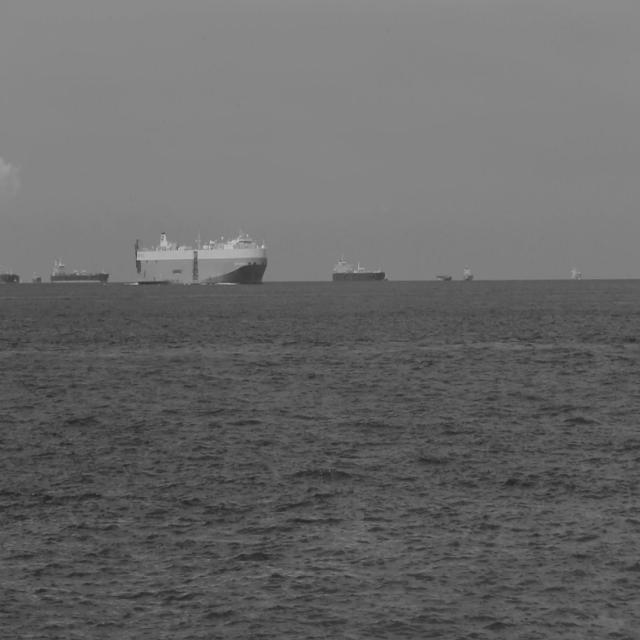ship: (133, 228, 268, 286), (332, 253, 386, 284), (50, 257, 110, 284), (0, 262, 20, 284), (569, 262, 582, 280), (462, 265, 474, 282), (31, 269, 42, 287), (436, 272, 452, 283), (12, 277, 18, 284), (383, 274, 388, 282)
